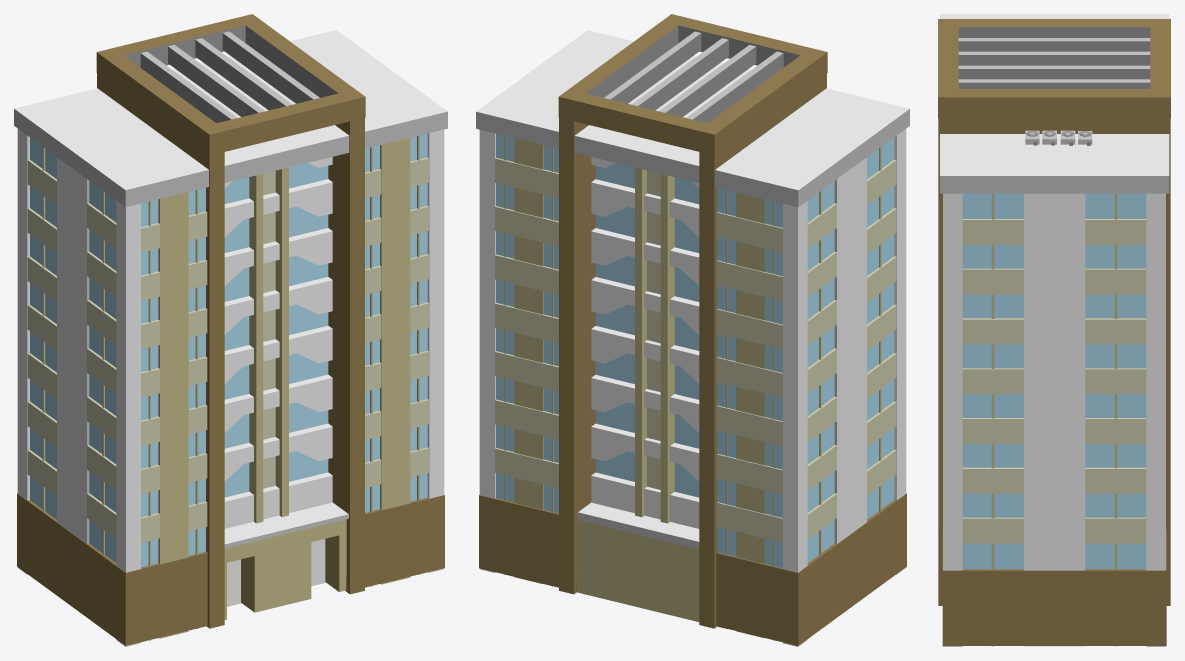
File: house_high_001.glb
3 views of the same model, side by side, from view 1: azimuth 30°, elevation 25°; view 2: azimuth 150°, elevation 25°; view 3: azimuth 270°, elevation 25° (orthographic). The views are drawn at different scales.
Visible parts, largest first — view 1: house_high_001; view 2: house_high_001; view 3: house_high_001.
Part boxes in pixels (left/top/right/bottom): house_high_001: left=14, top=14, right=447, bottom=646; house_high_001: left=476, top=14, right=909, bottom=646; house_high_001: left=938, top=14, right=1170, bottom=646.
Size of the model in its own units: 15.09 by 22.18 by 9.16.
Materials: 1 (1 with a texture image).
